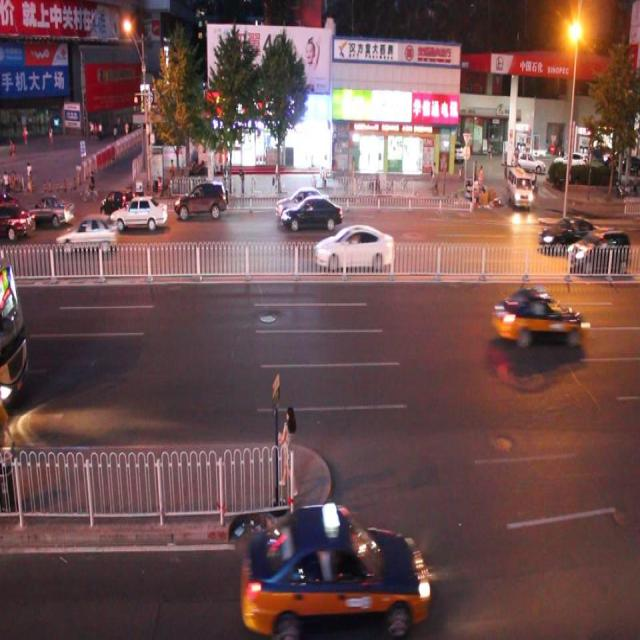car: (238, 495, 430, 640), (491, 286, 586, 347), (312, 219, 394, 273), (565, 226, 630, 272), (55, 214, 119, 254), (537, 214, 601, 254), (282, 194, 344, 235), (176, 179, 236, 220), (16, 188, 73, 228), (277, 184, 332, 223), (110, 196, 166, 231), (103, 185, 147, 225), (1, 201, 36, 239)
truck: (506, 164, 531, 208)
